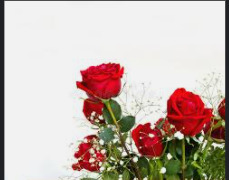RedRose: (164, 85, 211, 138), (76, 61, 124, 99), (71, 134, 109, 172), (131, 123, 165, 159)
